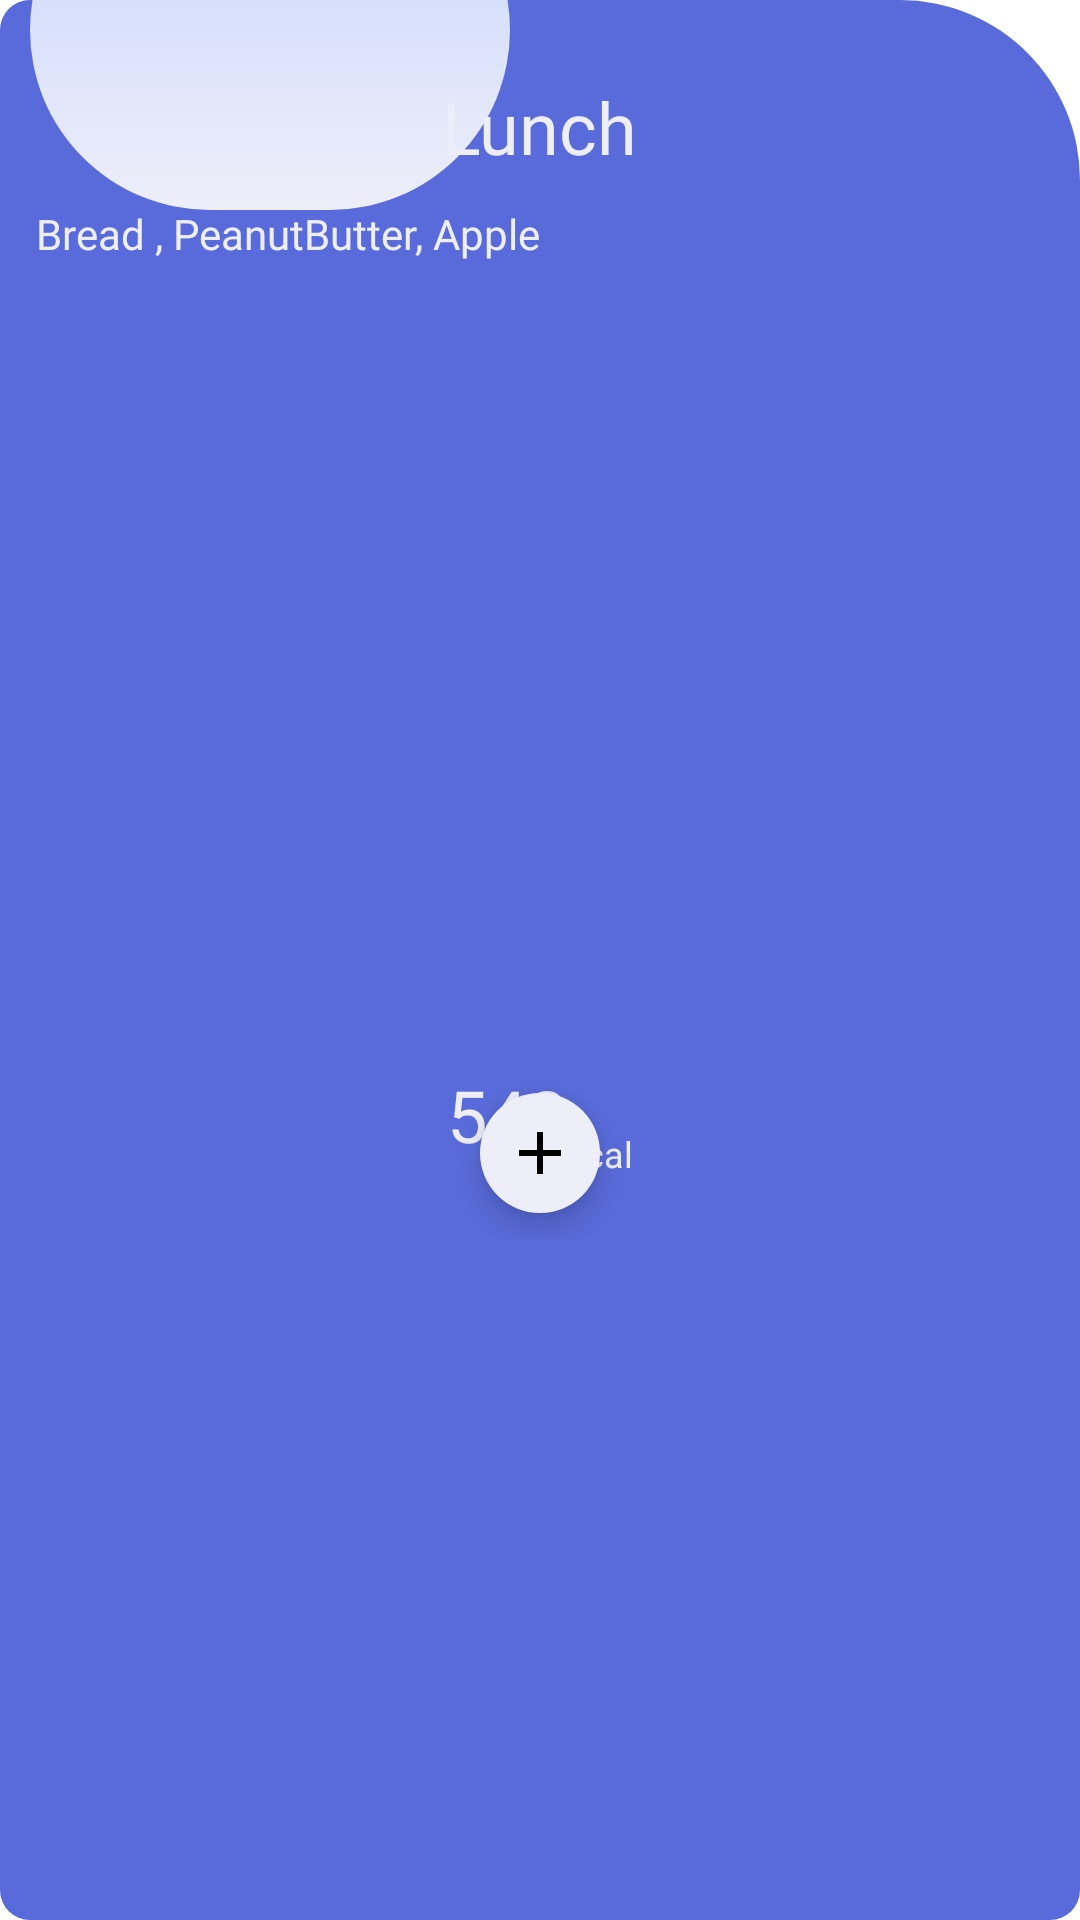

Named icons in this screenshot (1080×1920) and their bounding boxes, BBox(x1, y1, x2, y2):
add: BBox(468, 1091, 612, 1220)
